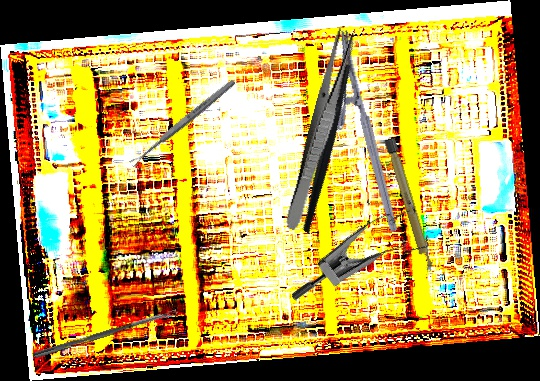Chopper: (236, 28, 417, 236)
Dressing Forceps: (282, 25, 359, 233)
Needle Holder: (312, 28, 399, 240)
Scalpel Handle: (383, 136, 436, 275)
Speculum: (287, 180, 445, 345)
Surgical Spoon: (128, 77, 237, 169), (32, 309, 178, 360)
